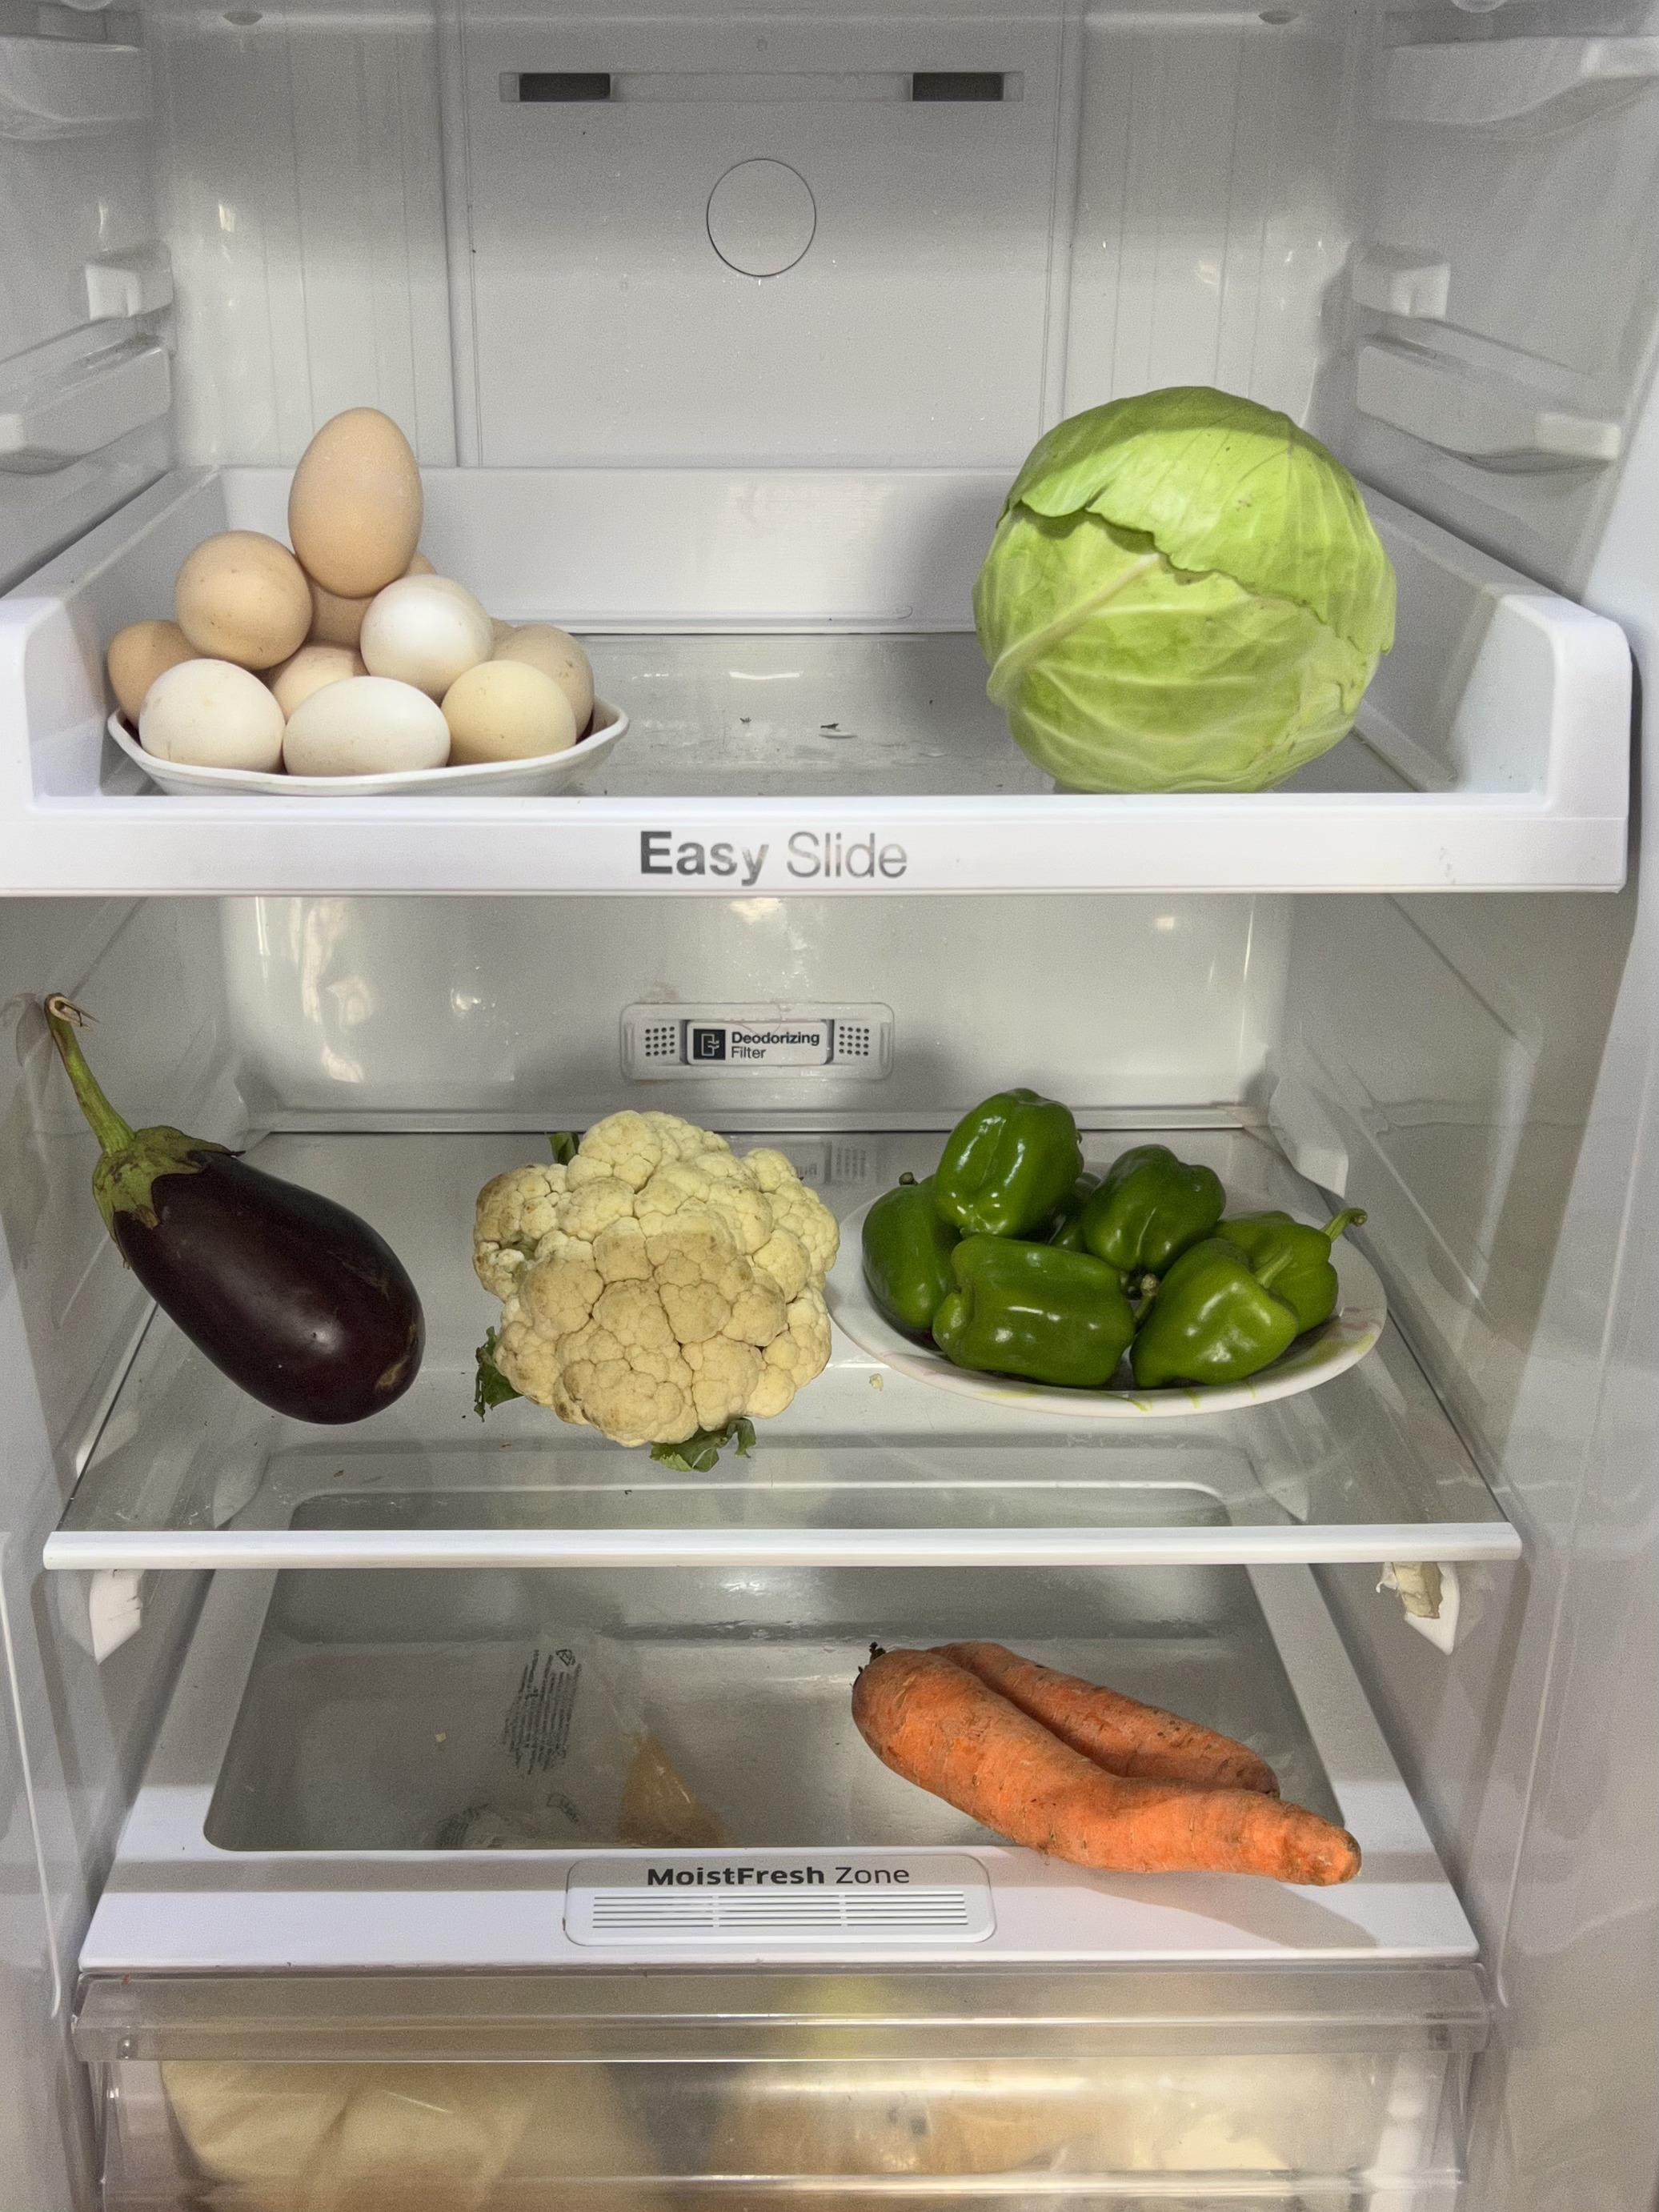bringal: (51, 974, 423, 1428)
cabbage: (967, 387, 1412, 777)
egg: (80, 449, 641, 780)
